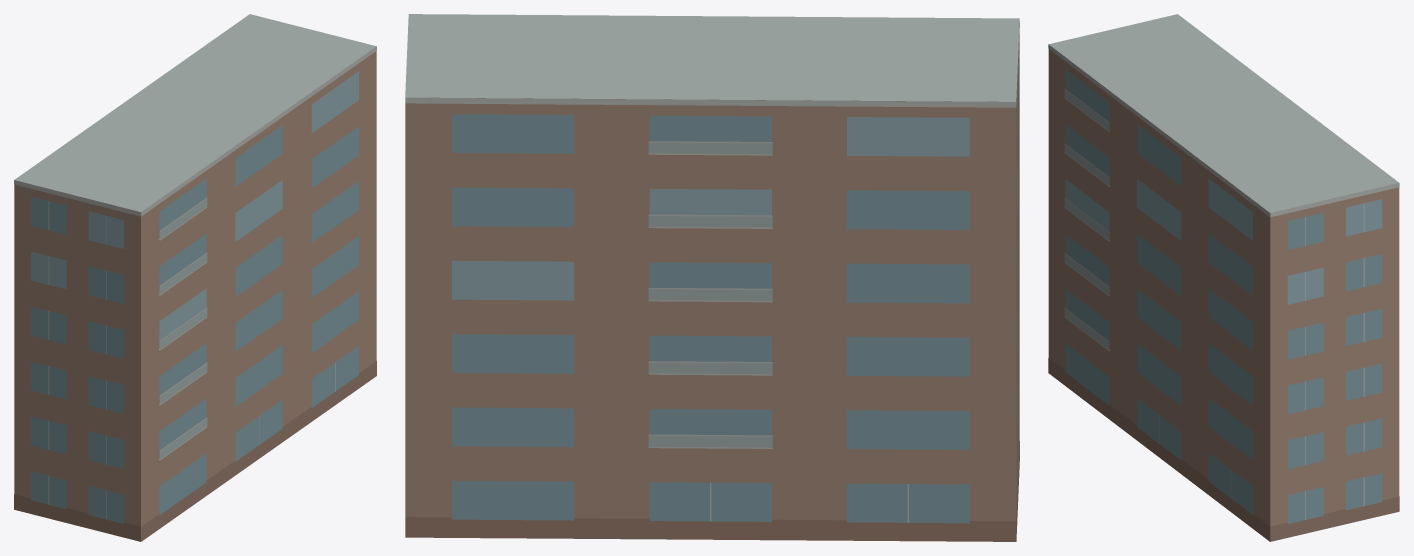
Rendered from survey-upis-32681179.glb.
The picture shows the model from 3 angles, left to right: view 1: azimuth 30°, elevation 25°; view 2: azimuth 150°, elevation 25°; view 3: azimuth 270°, elevation 25°; orthographic projection. The views are drawn at different scales.
Parts seen in each view (by area): view 1: survey-upis-32681179.tmp; view 2: survey-upis-32681179.tmp; view 3: survey-upis-32681179.tmp.
Part boxes in pixels (left/top/right/bottom): survey-upis-32681179.tmp: left=14, top=14, right=376, bottom=541; survey-upis-32681179.tmp: left=405, top=14, right=1019, bottom=541; survey-upis-32681179.tmp: left=1048, top=14, right=1399, bottom=541.
Size of the model in its own units: 23.77 by 18.3 by 17.71.
